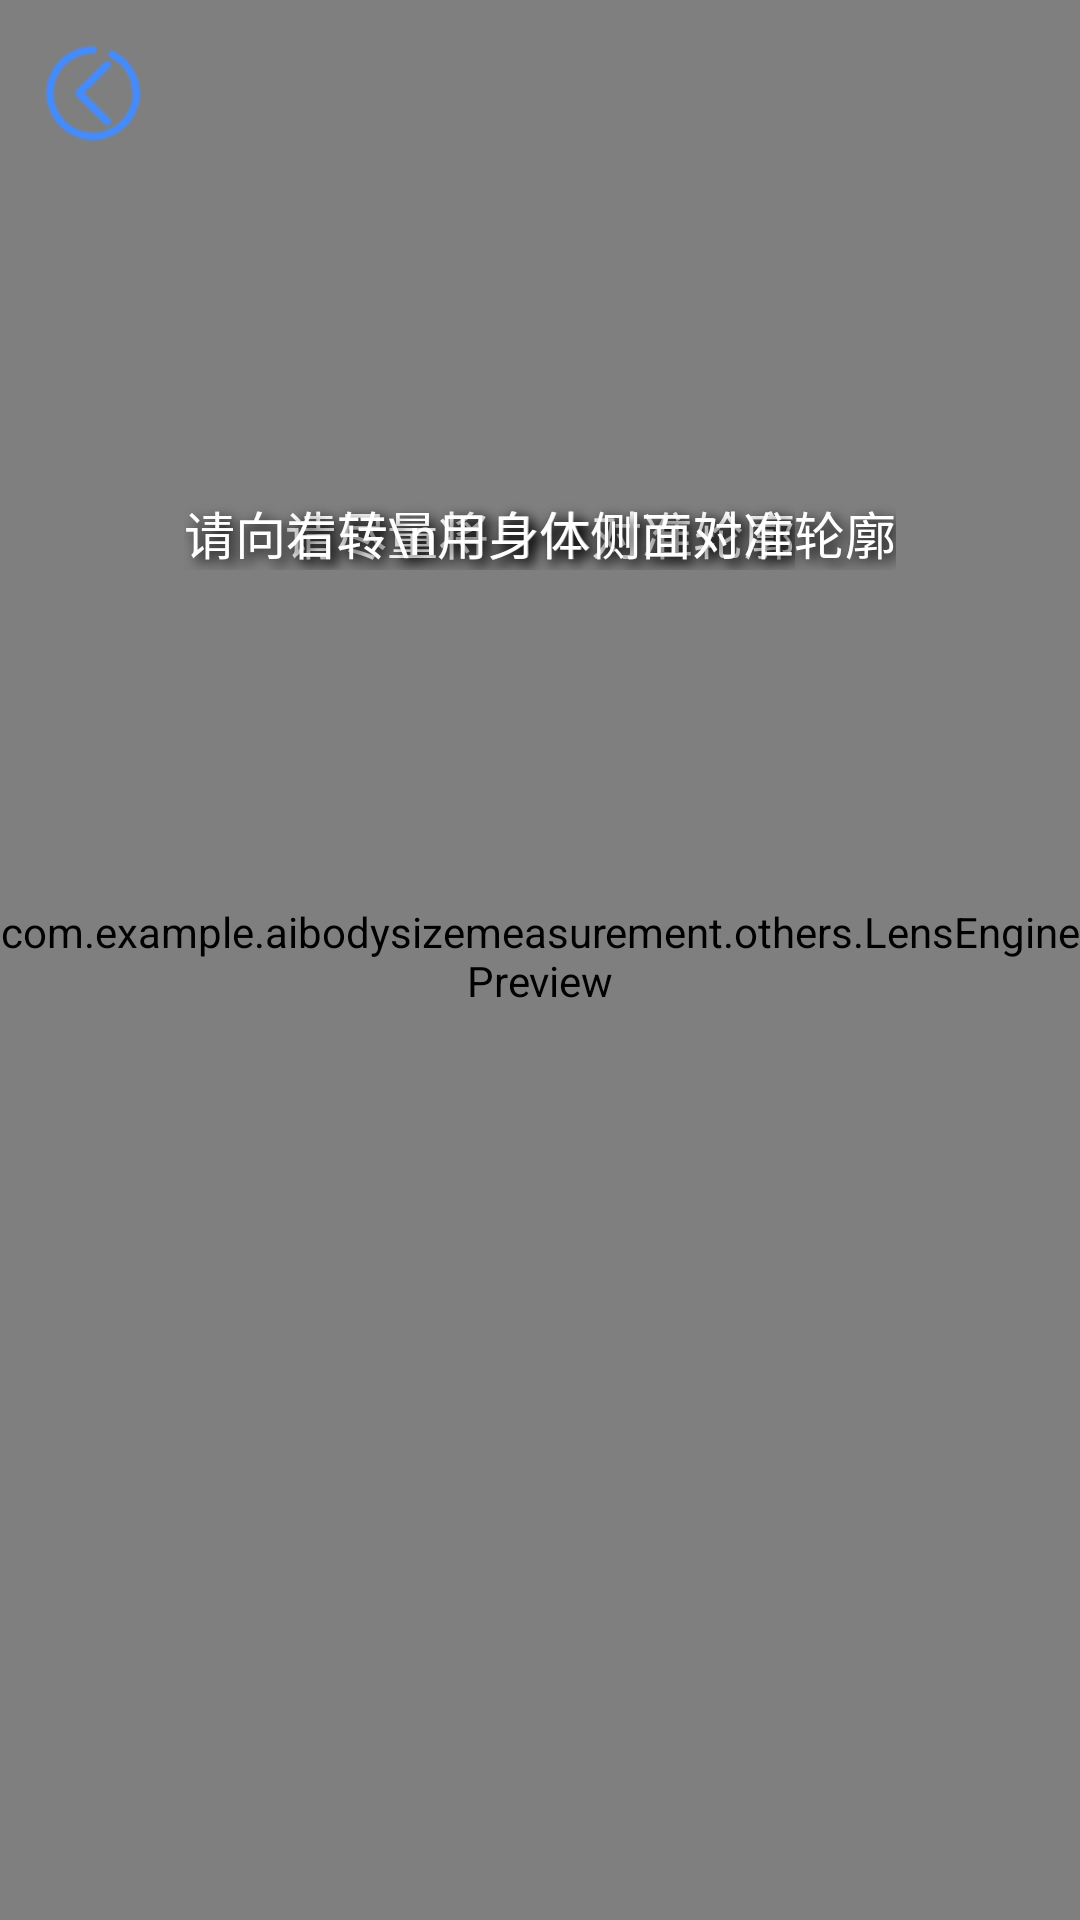

Icon click points for this 1080 x 1920 phone screenshot, format (x=x, y=y):
back: (x=93, y=93)
